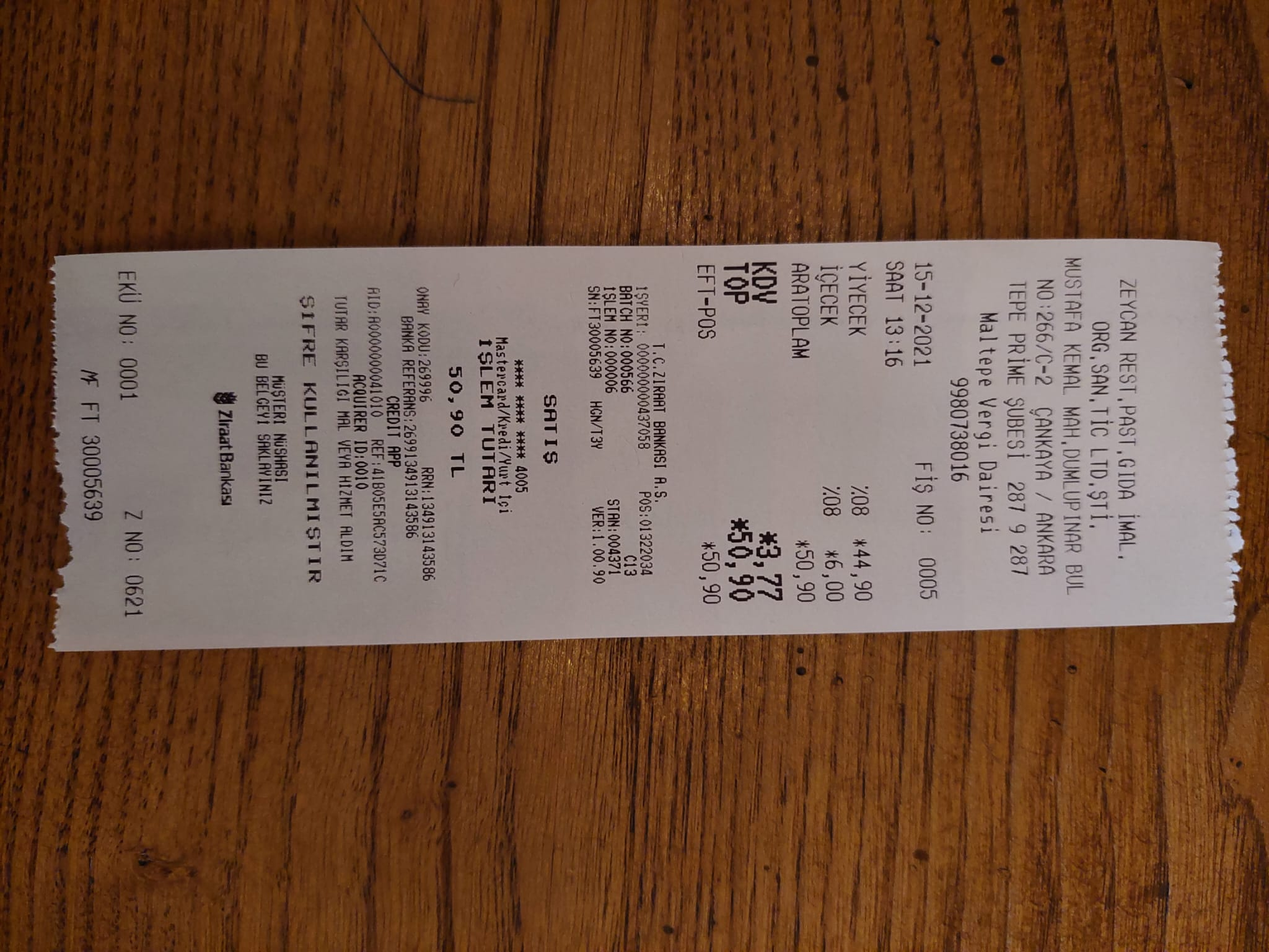date: (724, 524, 755, 613)
price: (908, 253, 940, 373)
workplace: (1030, 250, 1148, 618)
